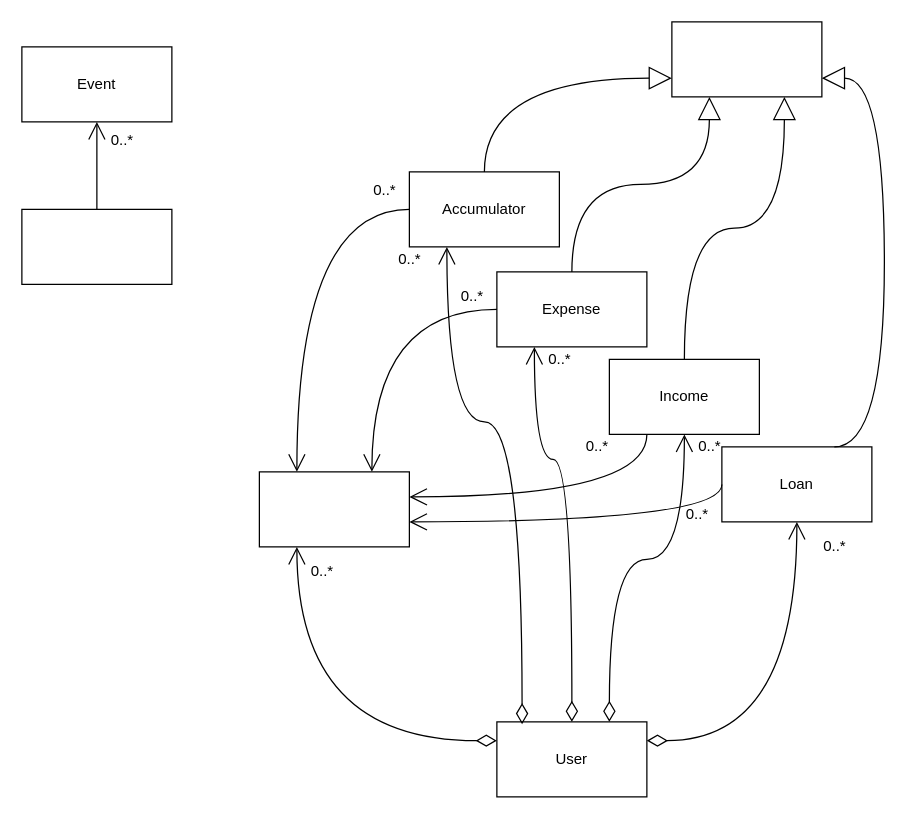
The diagram is 906 pixels wide and 819 high, and some of its shapes have lost their labels. Each missing label, with the box of its shape:
<Abstract> Account: (671, 21, 822, 97)
EventLog: (21, 208, 172, 284)
Transaction: (258, 471, 409, 547)
